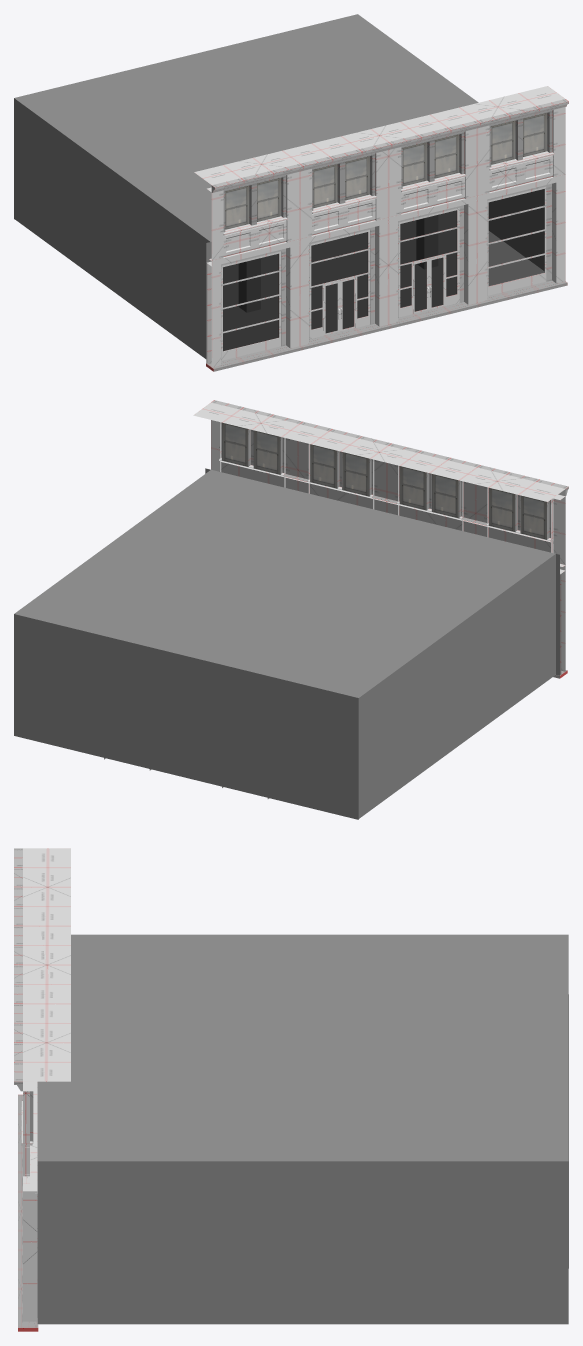
Rendered from B_Shop_01_a.FBX.
The picture shows the model from 3 angles, top to bottom: view 1: azimuth 30°, elevation 25°; view 2: azimuth 150°, elevation 25°; view 3: azimuth 270°, elevation 25°; orthographic projection. The views are drawn at different scales.
Parts seen in each view (by area): view 1: floor_01a, B_01_3x_a, windows_01a, B_01_extra_a, B_01_border_b, B_01_border_t, floor_01a_extra, B_01_sill, d3, d4, d1, d2; view 2: floor_01a, B_01_3x_a, B_01_border_t; view 3: floor_01a, B_01_3x_a, B_01_border_t, B_01_border_b.
Boxes of the visible parts, x1,y1,x2,y2 form: floor_01a: (14,14,544,358); B_01_3x_a: (194,86,565,367); windows_01a: (221,186,546,360); B_01_extra_a: (223,155,552,255); B_01_border_b: (206,280,567,371); B_01_border_t: (211,99,568,192); floor_01a_extra: (239,215,437,312); B_01_sill: (223,151,554,235); d3: (413,259,429,313); d4: (429,255,445,309); d1: (323,281,339,335); d2: (340,277,356,331); floor_01a: (14,469,555,819); B_01_3x_a: (193,402,565,675); B_01_border_t: (211,400,568,495); floor_01a: (37,934,568,1324); B_01_3x_a: (23,848,70,1321); B_01_border_t: (14,848,22,1091); B_01_border_b: (18,1094,38,1331).
Size of the model in its own units: 60.01 by 30 by 60.35.
